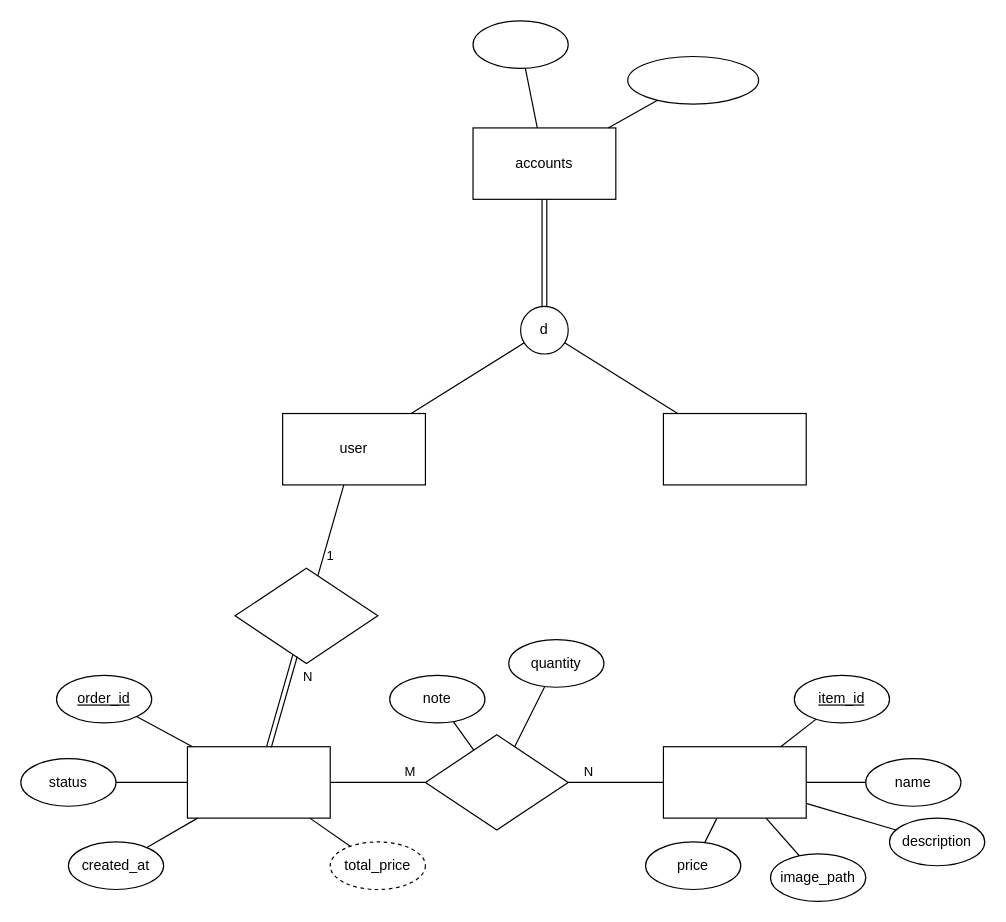
The diagram is 1006 pixels wide and 922 high, and some of its shapes have lost their labels. Here are the shapes that lost their labels. From the top down, the box of each, then its label:
(472, 20, 568, 68): username
(627, 55, 759, 104): password_hash
(662, 412, 806, 485): admin
(234, 567, 378, 663): place_order
(186, 746, 330, 818): orders
(424, 734, 568, 830): include_items
(662, 746, 806, 818): menu
